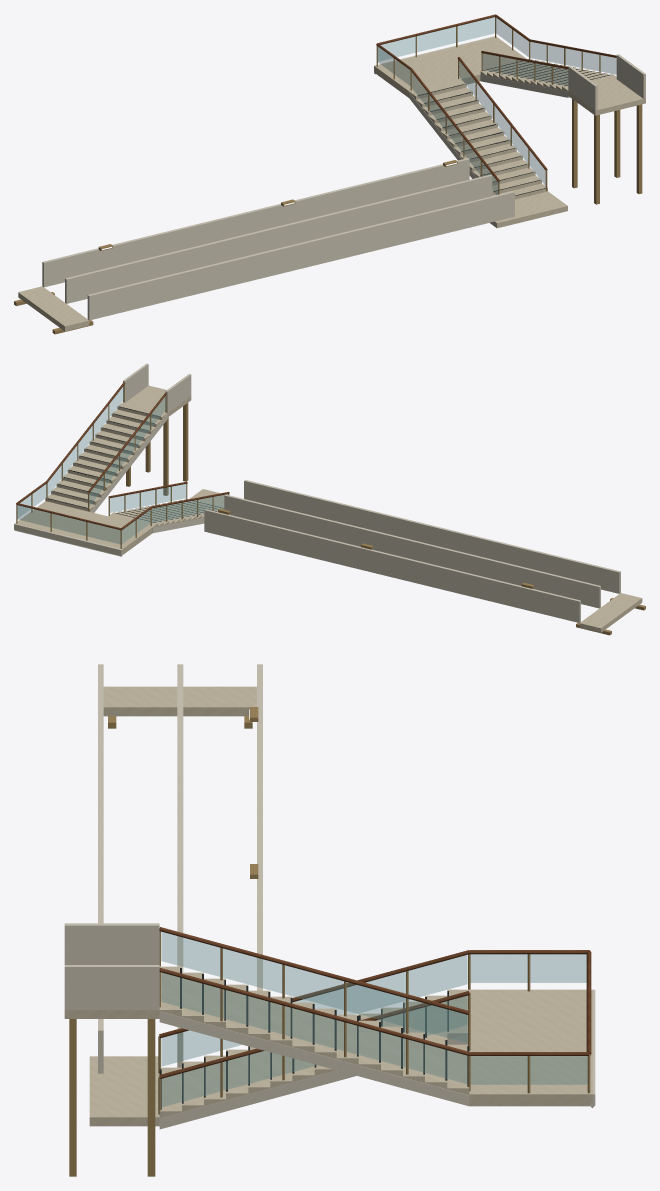
Rendered from D04_STAFF_COURT_APPROACH_SEALED_r001.glb.
3 views of the same model, one above another, from view 1: azimuth 30°, elevation 25°; view 2: azimuth 150°, elevation 25°; view 3: azimuth 270°, elevation 25° (orthographic). The views are drawn at different scales.
Visible parts, largest first — view 1: D04SA_Stair, D04SA_ServiceLaneScreen_2, D04SA_ServiceLaneScreen_1, D04SA_ServiceLaneScreen_0, D04SA_StairWalkLanding, D04SA_Stair__CIR_GuardLandingRear, D04SA_StaffJunctionGapFloor, D04SA_UpperCourtLanding, D04SA_LowerStairApproach, D04SA_Stair__CIR_MidLanding, D04SA_UpperEdge_0, D04SA_UpperEdge_1 (+6 smaller); view 2: D04SA_Stair, D04SA_ServiceLaneScreen_0, D04SA_ServiceLaneScreen_2, D04SA_ServiceLaneScreen_1, D04SA_StairWalkLanding, D04SA_Stair__CIR_GuardLandingRear, D04SA_StaffJunctionGapFloor, D04SA_Stair__CIR_MidLanding, D04SA_Stair__CIR_LandingFascia, D04SA_UpperCourtLanding, D04SA_UpperEdge_0, D04SA_UpperEdge_1 (+3 smaller); view 3: D04SA_Stair, D04SA_StairWalkLanding, D04SA_StaffJunctionGapFloor, D04SA_LowerStairApproach, D04SA_UpperEdge_1, D04SA_Stair__CIR_MidLanding, D04SA_UpperEdge_0, D04SA_Stair__CIR_GuardLandingSide_5.92, D04SA_Stair__CIR_GuardLandingSide_0.08, D04SA_ServiceLaneScreen_1, D04SA_ServiceLaneScreen_0, D04SA_ServiceLaneScreen_2 (+3 smaller).
Boxes of the visible parts, <box> form: D04SA_Stair: <box>409,26,616,199</box>; D04SA_ServiceLaneScreen_2: <box>87,191,514,320</box>; D04SA_ServiceLaneScreen_1: <box>65,174,492,303</box>; D04SA_ServiceLaneScreen_0: <box>42,158,469,287</box>; D04SA_StairWalkLanding: <box>374,37,526,96</box>; D04SA_Stair__CIR_GuardLandingRear: <box>378,17,494,61</box>; D04SA_StaffJunctionGapFloor: <box>18,286,89,331</box>; D04SA_UpperCourtLanding: <box>568,79,645,115</box>; D04SA_LowerStairApproach: <box>490,191,567,228</box>; D04SA_Stair__CIR_MidLanding: <box>374,38,524,97</box>; D04SA_UpperEdge_0: <box>568,66,597,110</box>; D04SA_UpperEdge_1: <box>616,54,645,98</box>; D04SA_Stair: <box>45,382,229,540</box>; D04SA_ServiceLaneScreen_0: <box>204,509,580,622</box>; D04SA_ServiceLaneScreen_2: <box>244,480,620,593</box>; D04SA_ServiceLaneScreen_1: <box>224,494,600,608</box>; D04SA_StairWalkLanding: <box>15,501,152,553</box>; D04SA_Stair__CIR_GuardLandingRear: <box>17,505,120,544</box>; D04SA_StaffJunctionGapFloor: <box>579,593,642,632</box>; D04SA_Stair__CIR_MidLanding: <box>19,502,152,554</box>; D04SA_Stair__CIR_LandingFascia: <box>14,524,122,556</box>; D04SA_UpperCourtLanding: <box>125,385,191,417</box>; D04SA_UpperEdge_0: <box>165,374,191,413</box>; D04SA_UpperEdge_1: <box>123,363,148,402</box>; D04SA_Stair: <box>158,927,470,1129</box>; D04SA_StairWalkLanding: <box>469,989,592,1103</box>; D04SA_StaffJunctionGapFloor: <box>103,686,256,716</box>; D04SA_LowerStairApproach: <box>89,1056,159,1126</box>; D04SA_UpperEdge_1: <box>64,965,159,1009</box>; D04SA_Stair__CIR_MidLanding: <box>469,989,591,1106</box>; D04SA_UpperEdge_0: <box>64,923,159,964</box>; D04SA_Stair__CIR_GuardLandingSide_5.92: <box>470,1056,587,1084</box>; D04SA_Stair__CIR_GuardLandingSide_0.08: <box>470,954,586,982</box>; D04SA_ServiceLaneScreen_1: <box>177,664,183,1067</box>; D04SA_ServiceLaneScreen_0: <box>257,664,262,990</box>; D04SA_ServiceLaneScreen_2: <box>98,664,103,1073</box>.
Bounding box in the file's own units: 28.56 × 6.05 × 12.85.
10 materials, 8 textured.
